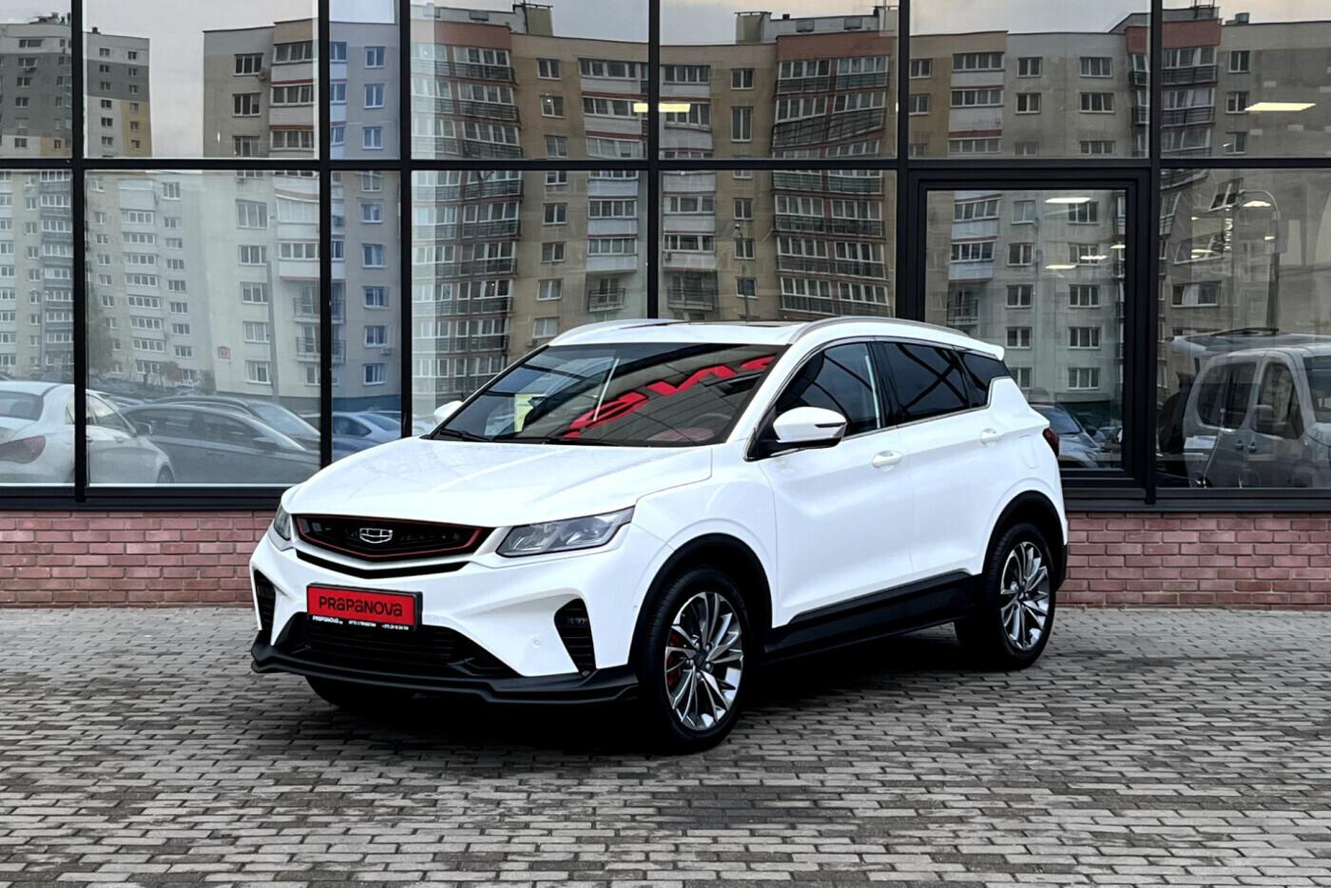Coolray_2019-2023: (239, 313, 1077, 745)
